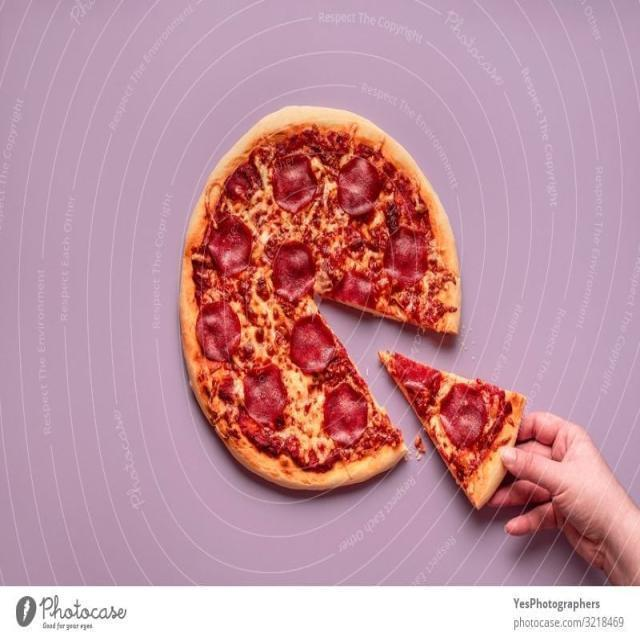pizza_full: (178, 101, 530, 508)
